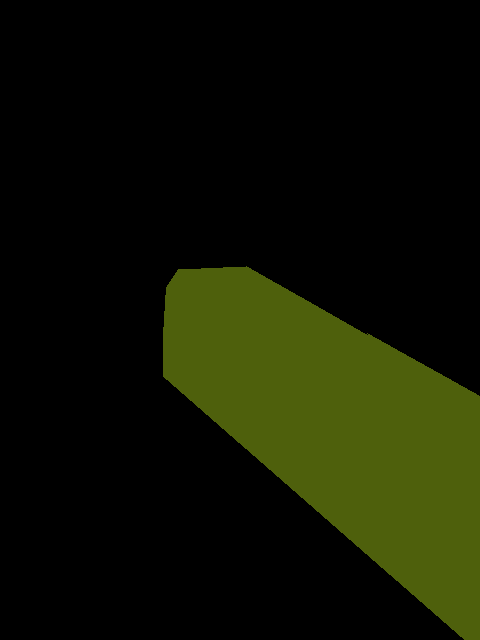Train: (163, 266, 480, 640)
